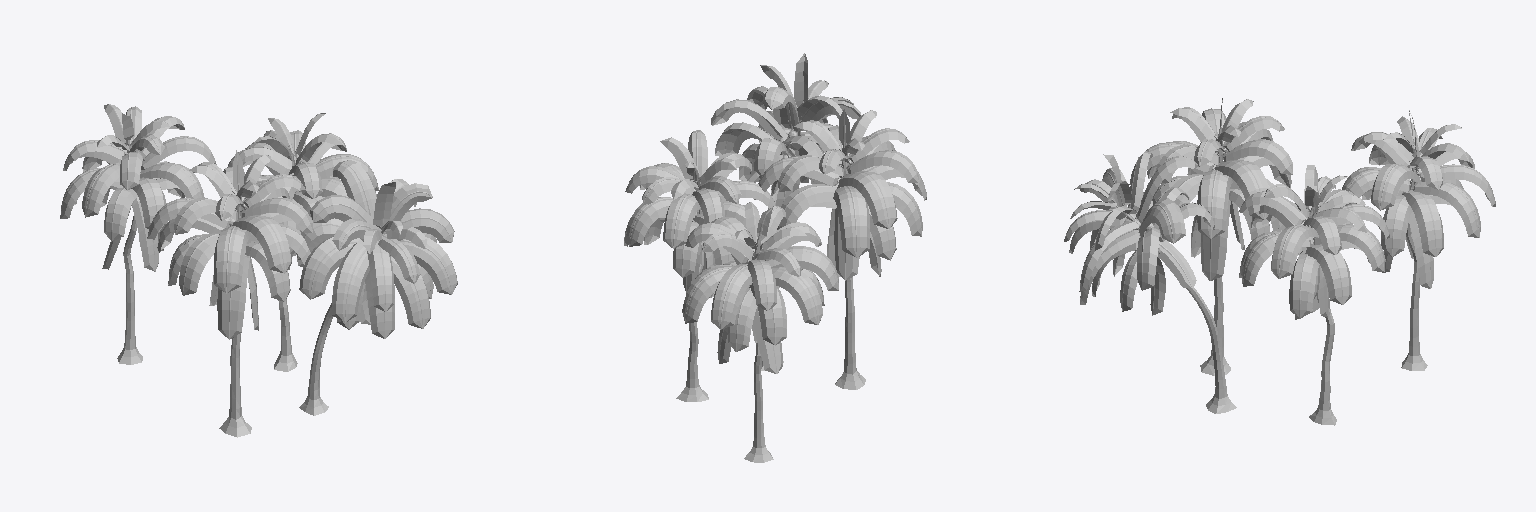
The model's file is Trees.obj.
The picture shows the model from 3 angles: view 1: azimuth 30°, elevation 25°; view 2: azimuth 150°, elevation 25°; view 3: azimuth 270°, elevation 25°; orthographic projection.
Parts seen in each view (by area): view 1: CoconutTress.001; view 2: CoconutTress.001; view 3: CoconutTress.001.
Boxes of the visible parts, x1,y1,x2,y2 form: CoconutTress.001: [60, 104, 457, 437]; CoconutTress.001: [624, 53, 926, 462]; CoconutTress.001: [1064, 98, 1495, 425].
Bounding box in the file's own units: 3.55 × 3.8 × 5.4.